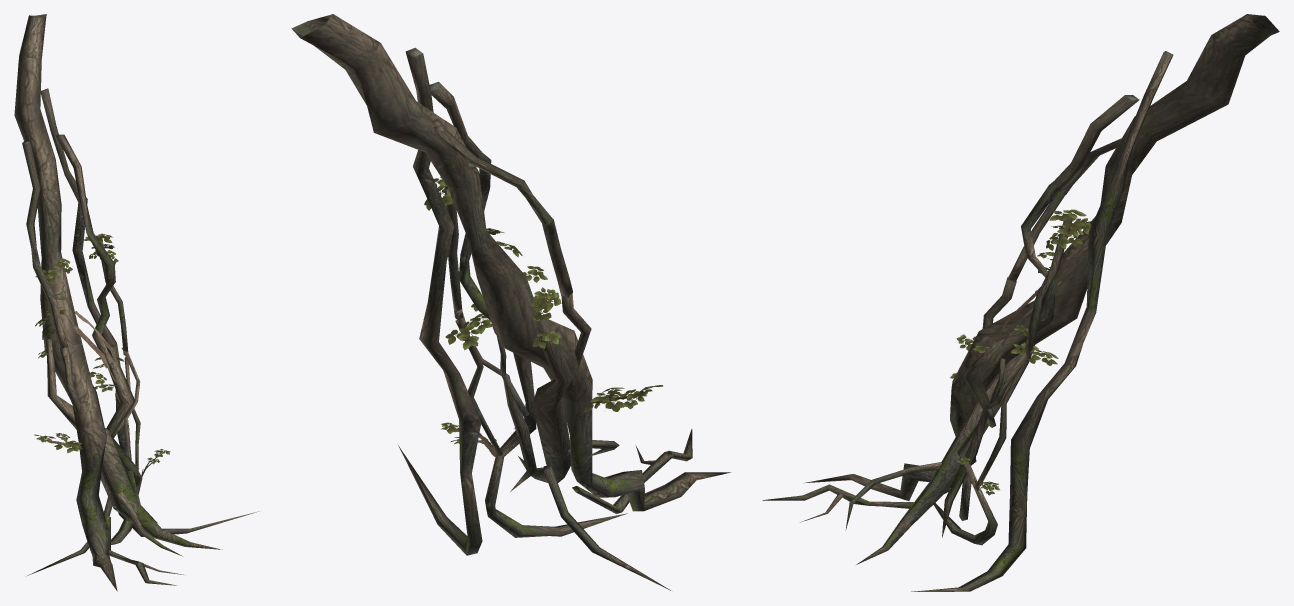
File: dx_tengtiao_1.FBX
3 views of the same model, side by side, from view 1: azimuth 30°, elevation 25°; view 2: azimuth 150°, elevation 25°; view 3: azimuth 270°, elevation 25° (orthographic). The views are drawn at different scales.
Visible parts, largest first — view 1: dx_tengtiao_1; view 2: dx_tengtiao_1; view 3: dx_tengtiao_1.
Part boxes in pixels (x1,y1,x2,y2): dx_tengtiao_1: (14,14,258,591); dx_tengtiao_1: (291,14,730,590); dx_tengtiao_1: (762,14,1279,591).
Bounding box in the file's own units: 347 × 695 × 582.
